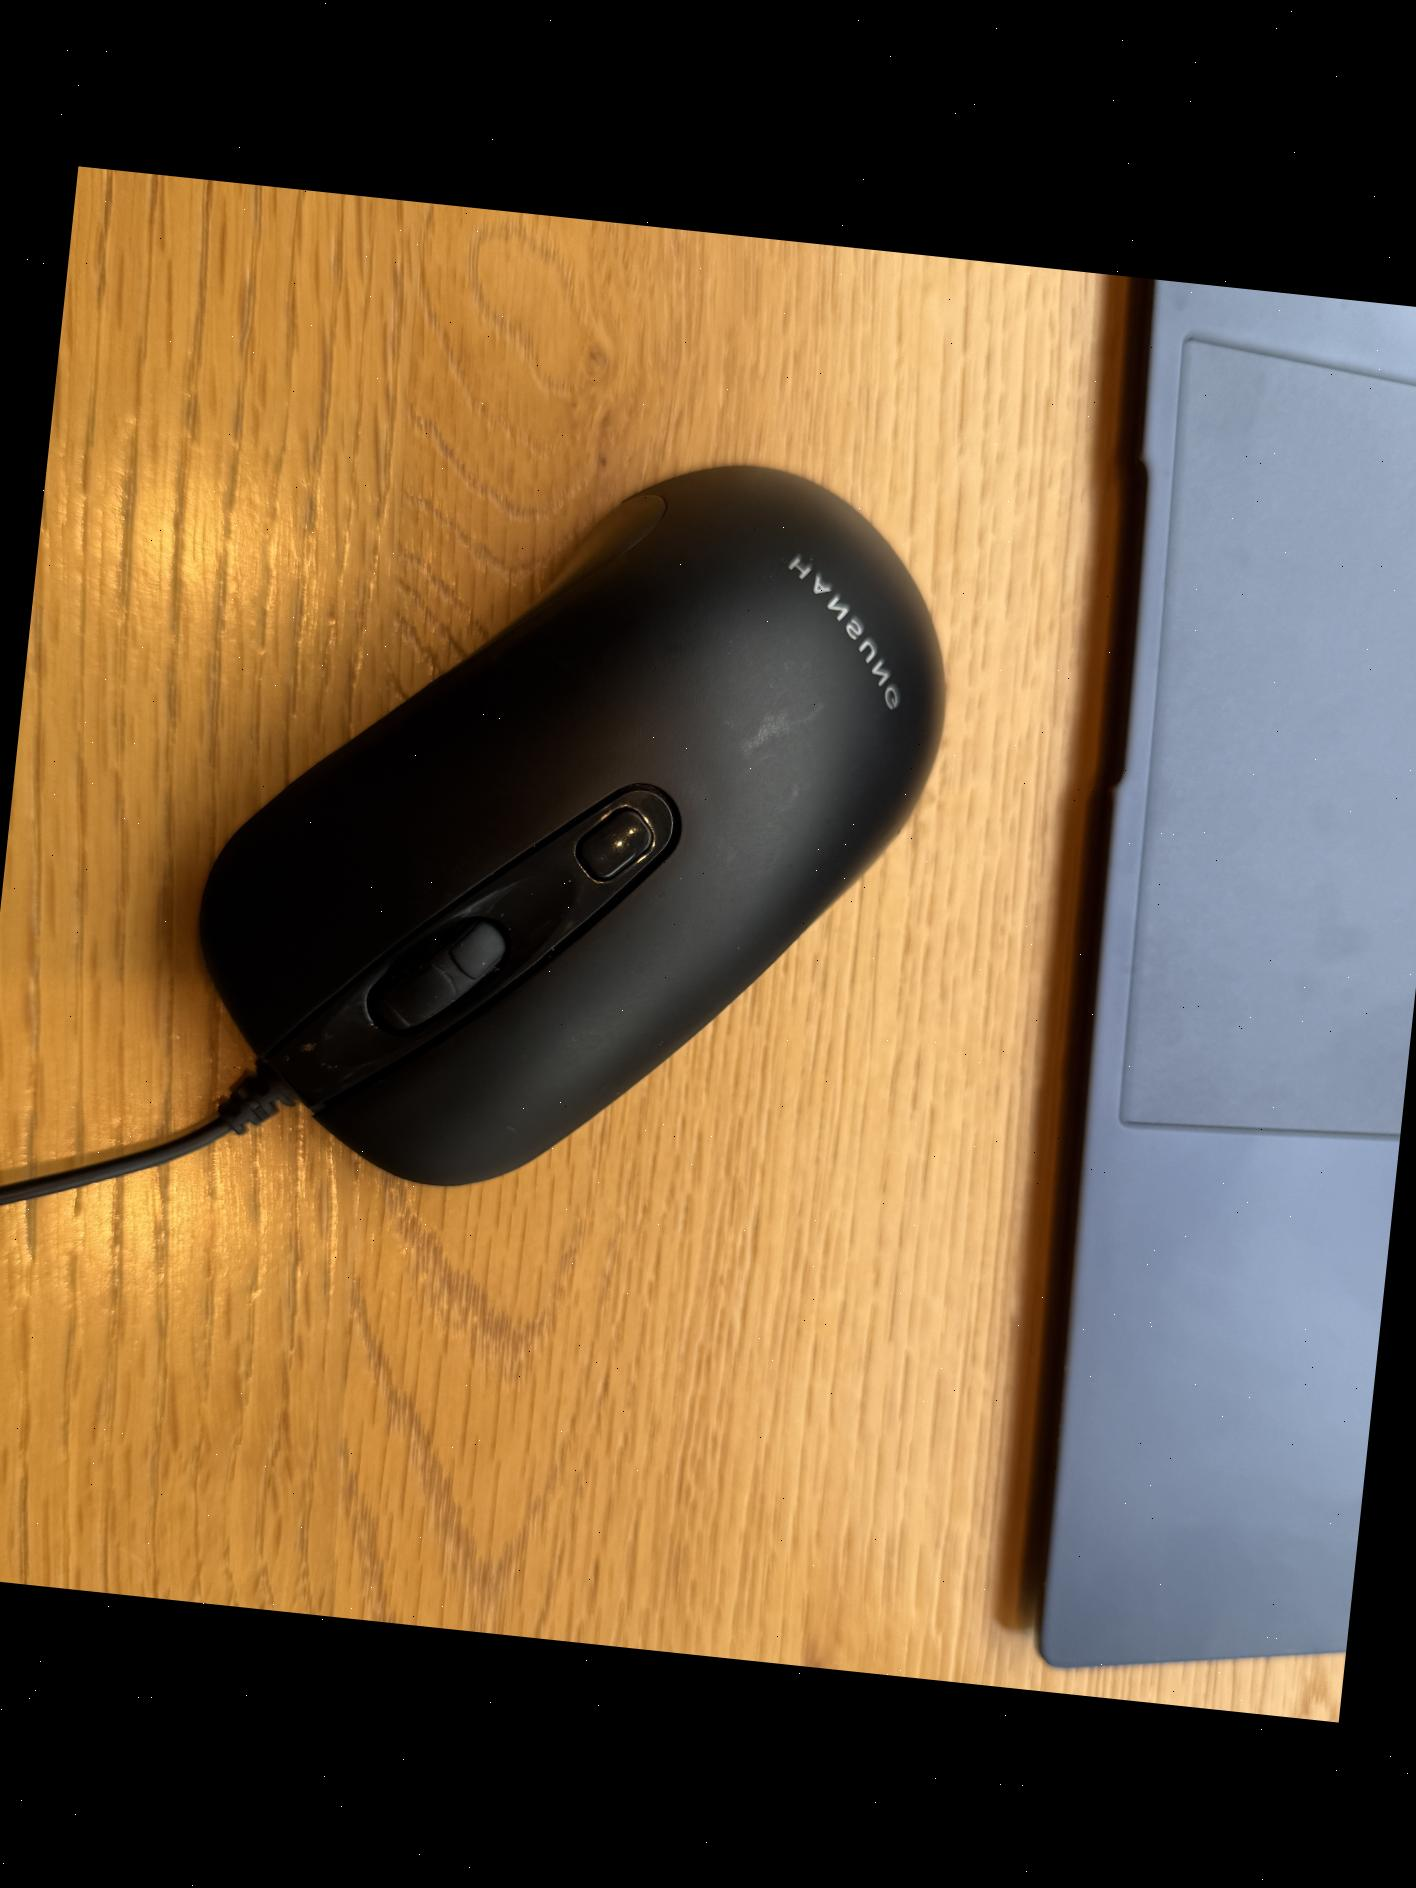front: (173, 403, 980, 1243)
